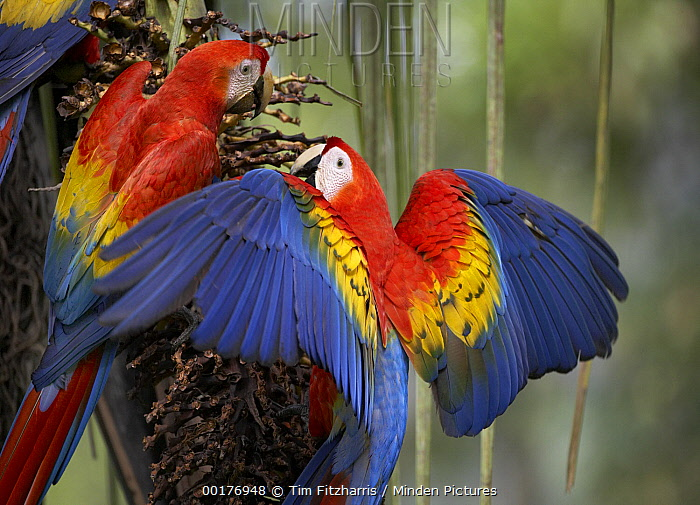Lapa: (115, 127, 634, 483), (27, 23, 272, 455)
